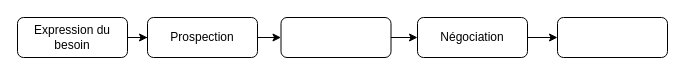
Image size: 685x75. Some labels were removed from this diagram. The shapes that lost their labels are listed below. From the top down, each one's centre as x and y in pixels, then its label:
the point at 335,37: Sélection
the point at 612,37: Période d'essai
